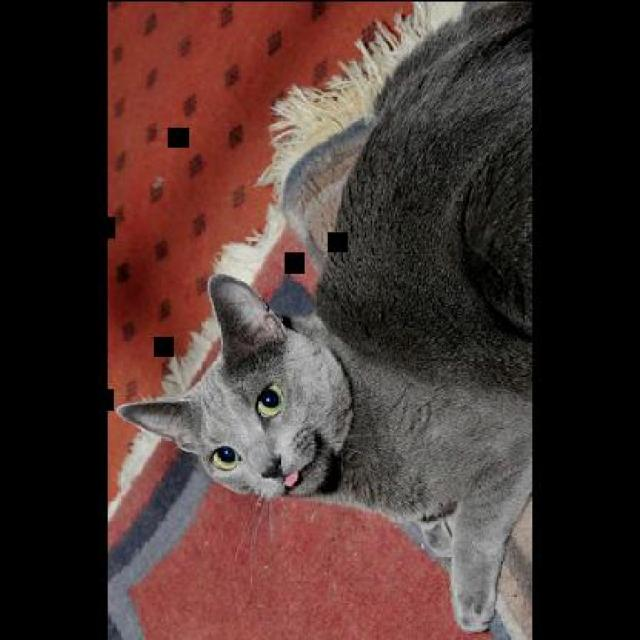unauthorized: (109, 0, 532, 638)
